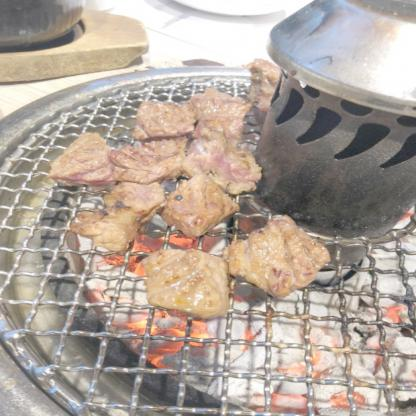Carne: (230, 215, 333, 300), (179, 101, 270, 196), (137, 245, 239, 320), (74, 180, 163, 262), (167, 173, 242, 238), (106, 136, 193, 181), (137, 93, 208, 142), (56, 131, 117, 188), (230, 214, 247, 214)
